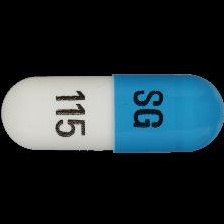42543-727: (0, 0, 224, 224)
